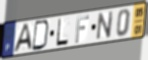0: (115, 8, 131, 38)
A: (12, 23, 34, 54)
D: (31, 19, 51, 52)
F: (74, 14, 90, 44)
L: (55, 18, 70, 47)
N: (95, 10, 115, 42)
